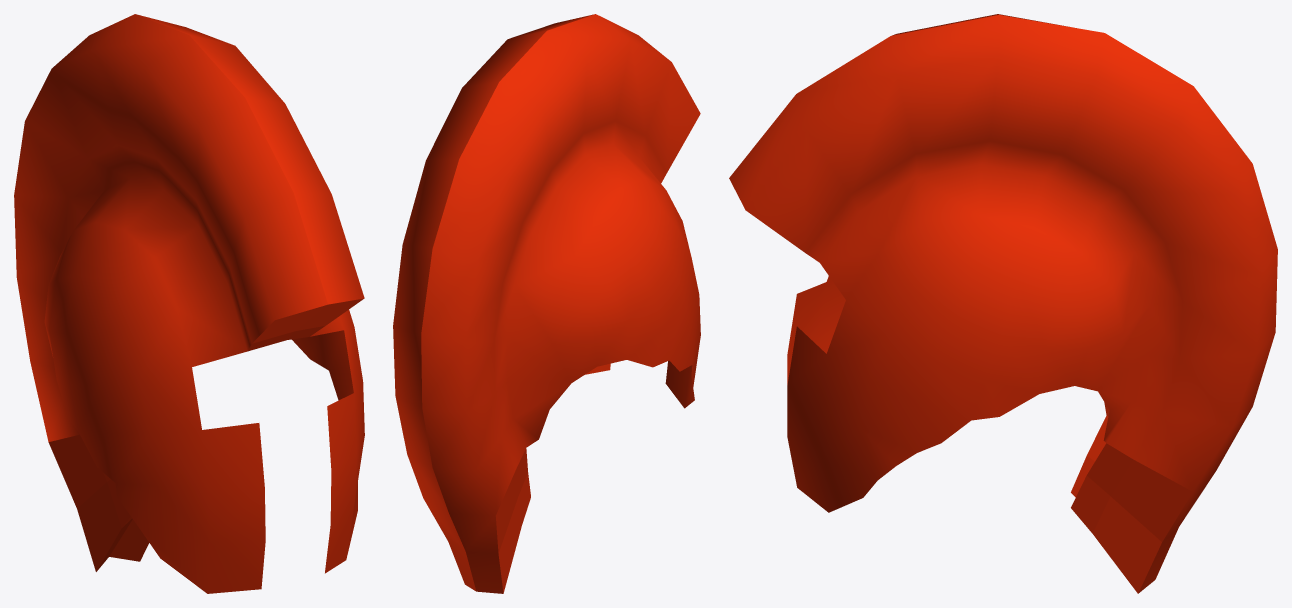
Rendered from Spartan.fbx.
3 renders of one model, left to right at view 1: azimuth 30°, elevation 25°; view 2: azimuth 150°, elevation 25°; view 3: azimuth 270°, elevation 25°, orthographic. The views are drawn at different scales.
Parts seen in each view (by area): view 1: Spartan; view 2: Spartan; view 3: Spartan.
Boxes of the visible parts, box(x1,y1,x2,y2) form: Spartan: box(14, 14, 364, 593); Spartan: box(393, 14, 700, 593); Spartan: box(729, 14, 1277, 593).
Bounding box in the file's own units: 57.46 × 127 × 111.
